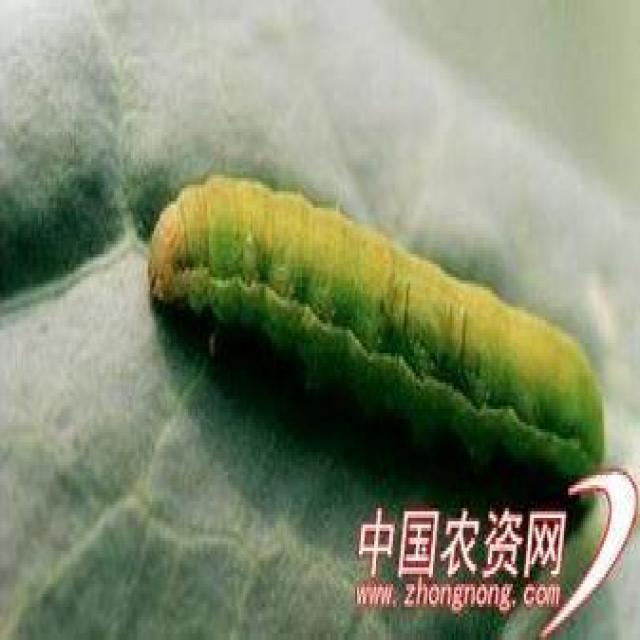BeetArmyWorm-Larva-: (140, 162, 603, 484)
